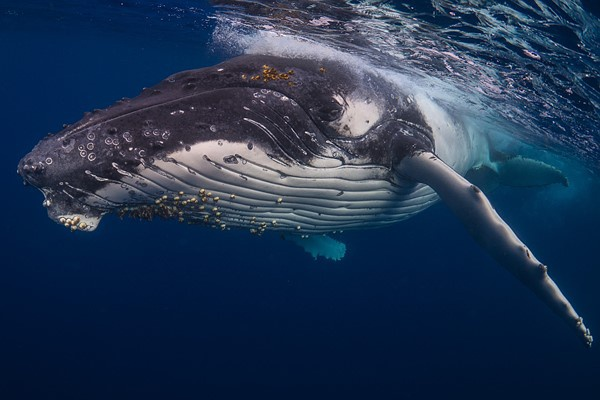humpback: (18, 54, 452, 235)
